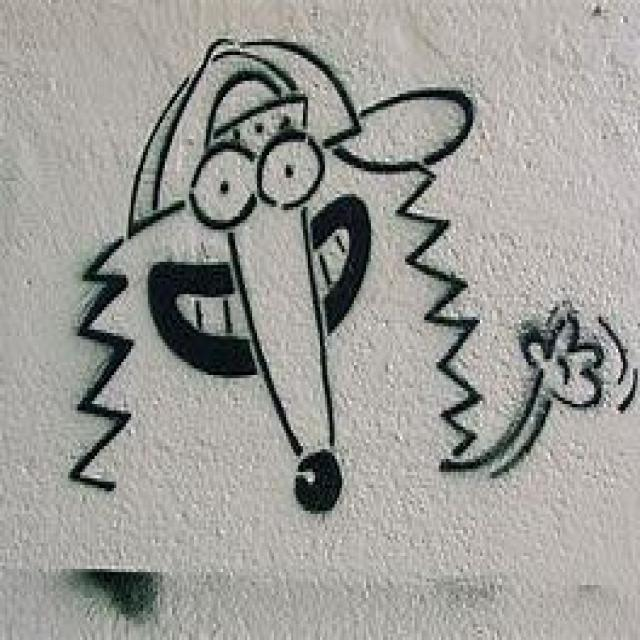nonspitting: (70, 36, 640, 514)
